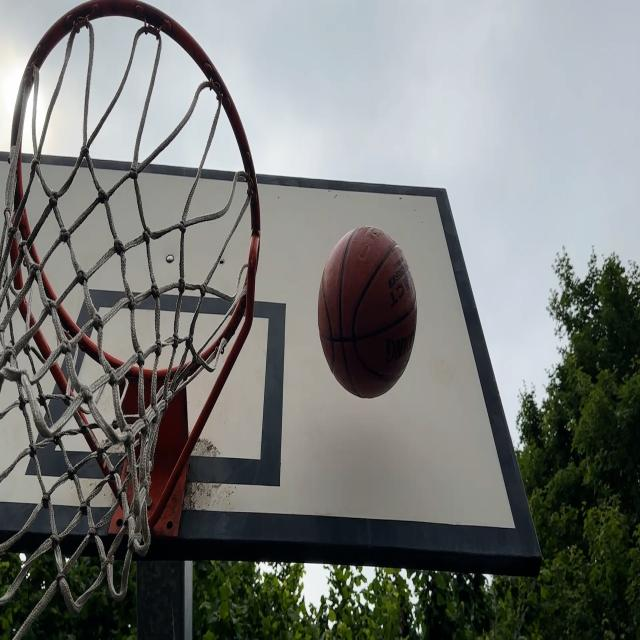Basketball: (318, 226, 417, 398)
